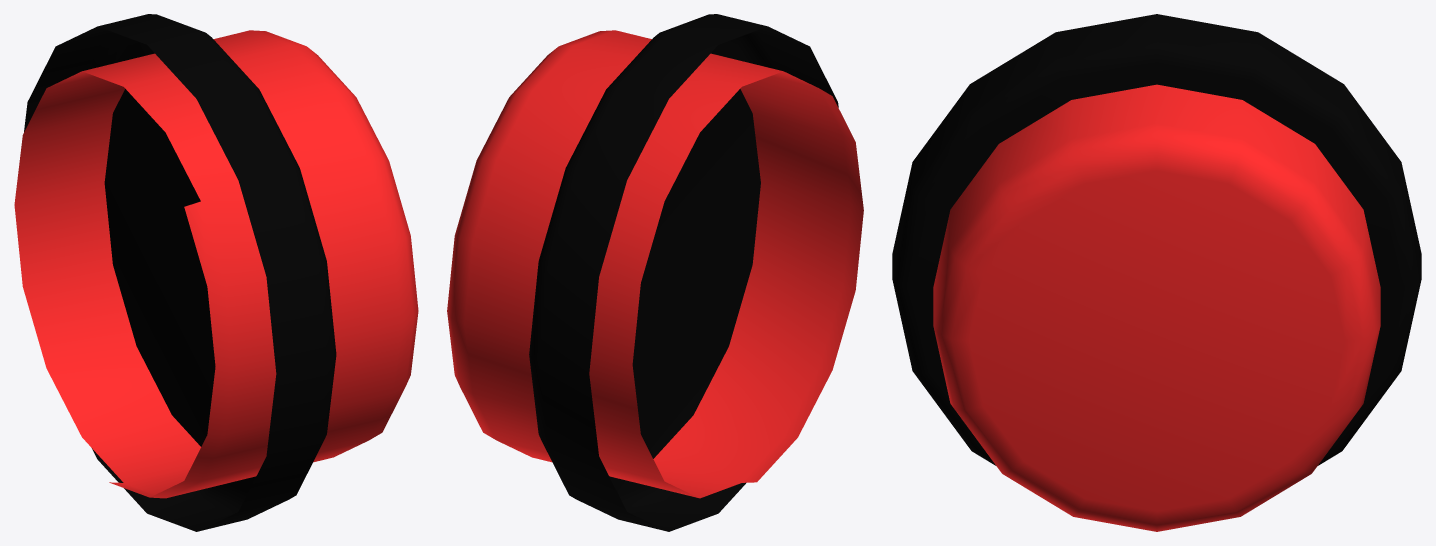
The model's file is Button.fbx.
3 views of the same model, side by side, from view 1: azimuth 30°, elevation 25°; view 2: azimuth 150°, elevation 25°; view 3: azimuth 270°, elevation 25° (orthographic). The views are drawn at different scales.
Visible parts, largest first — view 1: Button_Red, Edge; view 2: Button_Red, Edge; view 3: Button_Red, Edge.
Boxes of the visible parts, left/top/right/bottom form: Button_Red: left=14, top=30, right=418, bottom=498; Edge: left=24, top=14, right=336, bottom=531; Button_Red: left=447, top=30, right=863, bottom=498; Edge: left=529, top=14, right=838, bottom=531; Button_Red: left=933, top=84, right=1380, bottom=531; Edge: left=892, top=14, right=1421, bottom=465.
Bounding box in the file's own units: 1.6 × 3.35 × 3.35.
